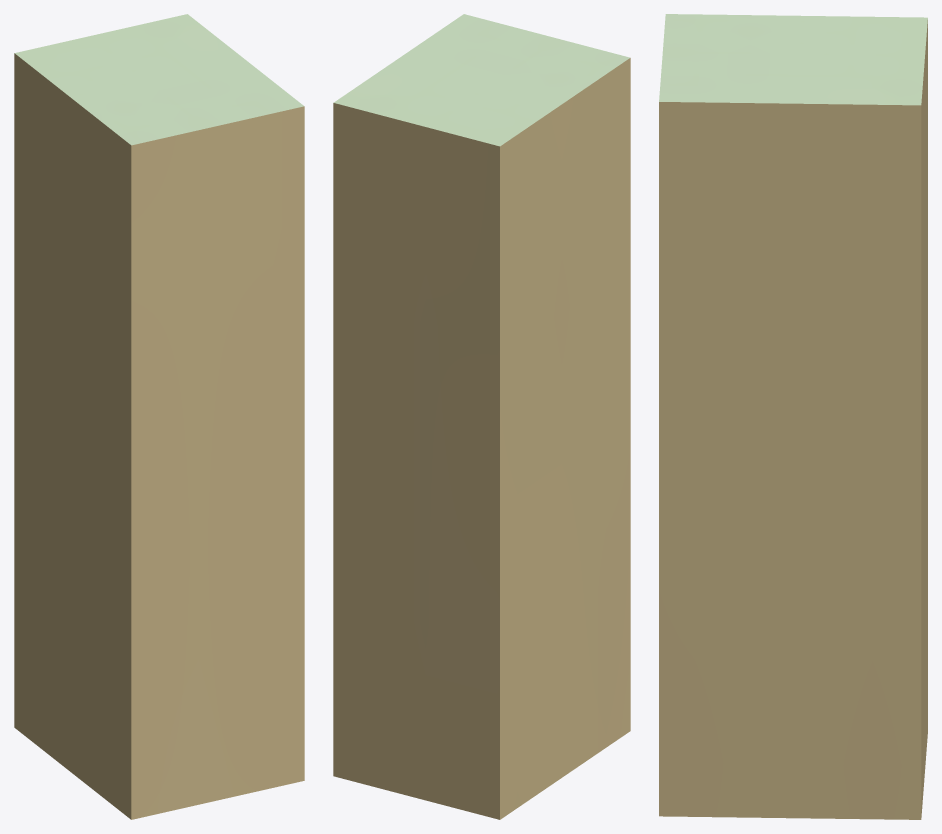
The model's file is Blocks-086.fbx.
3 renders of one model, left to right at view 1: azimuth 30°, elevation 25°; view 2: azimuth 150°, elevation 25°; view 3: azimuth 270°, elevation 25°, orthographic. The views are drawn at different scales.
Parts seen in each view (by area): view 1: Blocks-086; view 2: Blocks-086; view 3: Blocks-086.
Boxes of the visible parts, box(x1,y1,x2,y2) form: Blocks-086: box(14, 14, 304, 819); Blocks-086: box(333, 14, 630, 819); Blocks-086: box(659, 14, 927, 819).
Bounding box in the file's own units: 8816 × 32131 × 10961.
